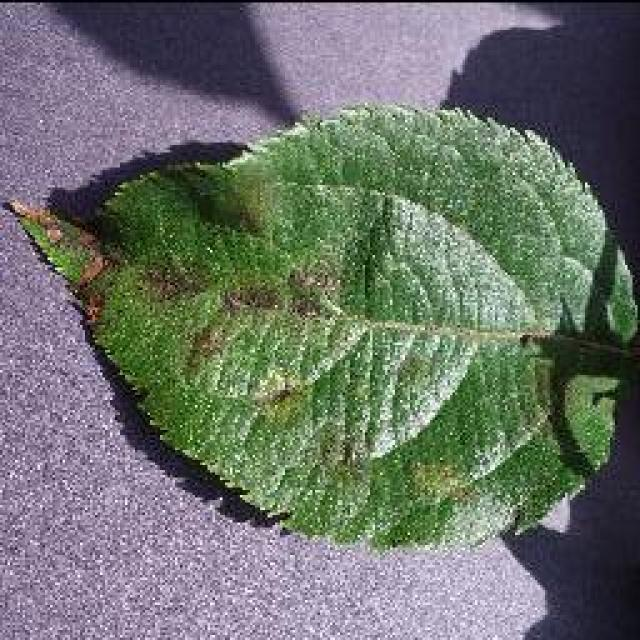apple scab disease: (5, 98, 637, 552)
